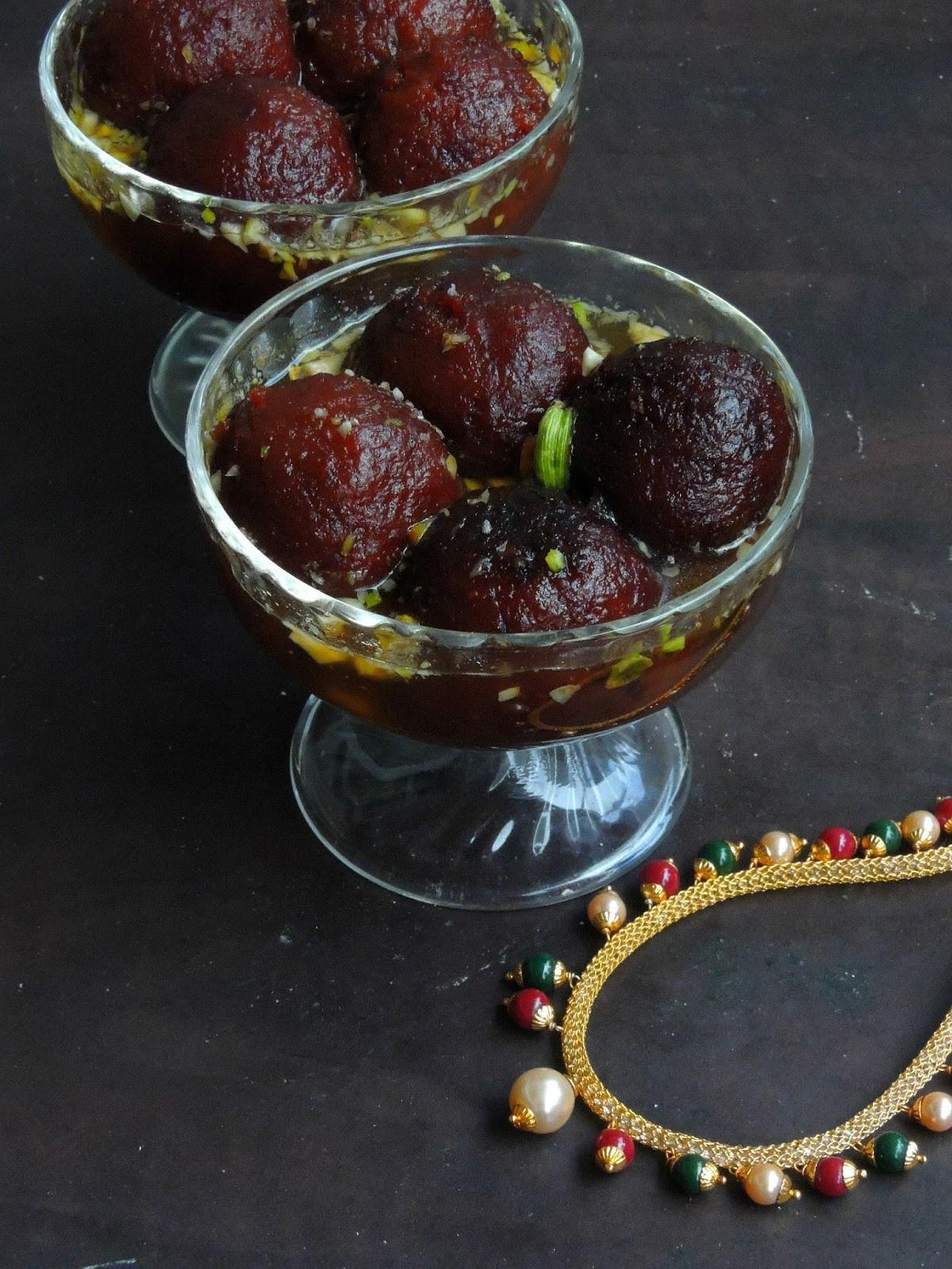GulabJamun: (205, 371, 449, 579), (584, 325, 803, 551), (336, 256, 576, 460), (333, 36, 563, 222), (151, 71, 359, 230), (82, 0, 298, 143), (458, 492, 667, 638), (299, 0, 537, 83)
